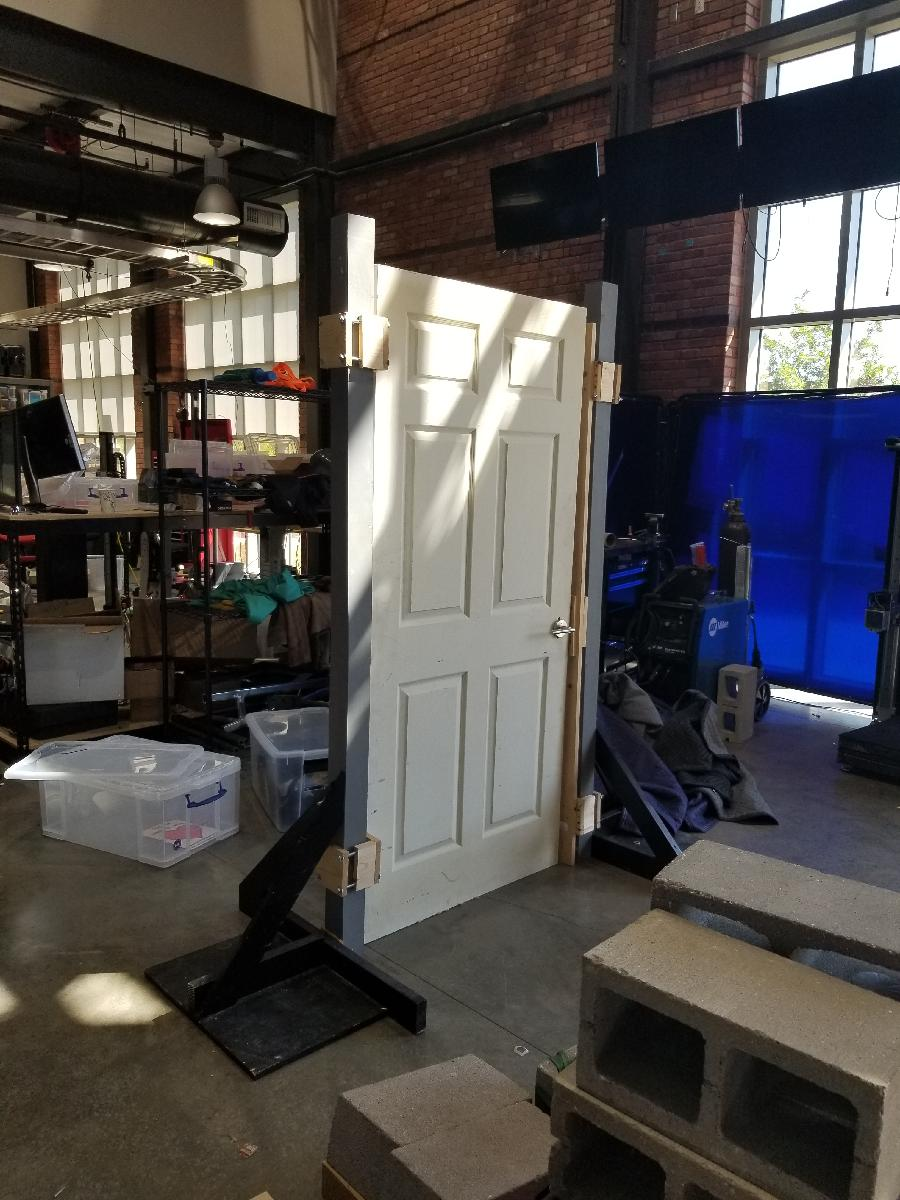door: (358, 258, 593, 951)
doorHandle: (545, 614, 573, 646)
